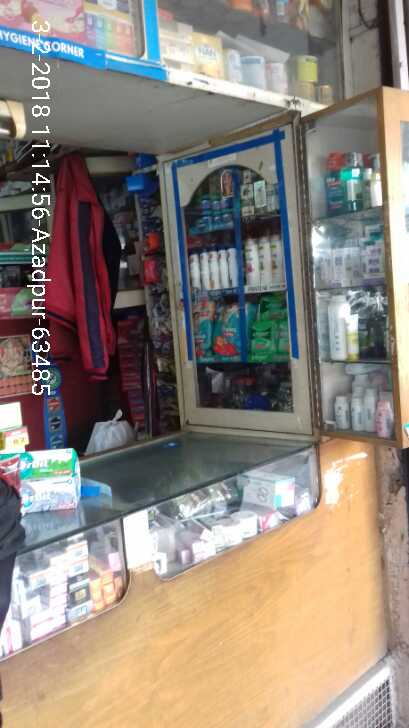vicks: (195, 189, 234, 235)
